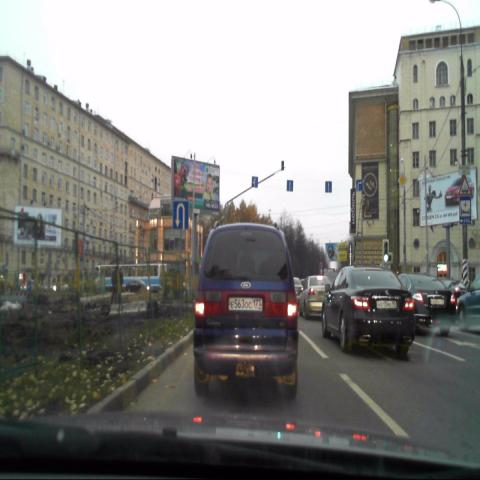1_5: (458, 175, 472, 197)
7_2: (459, 197, 471, 223)
